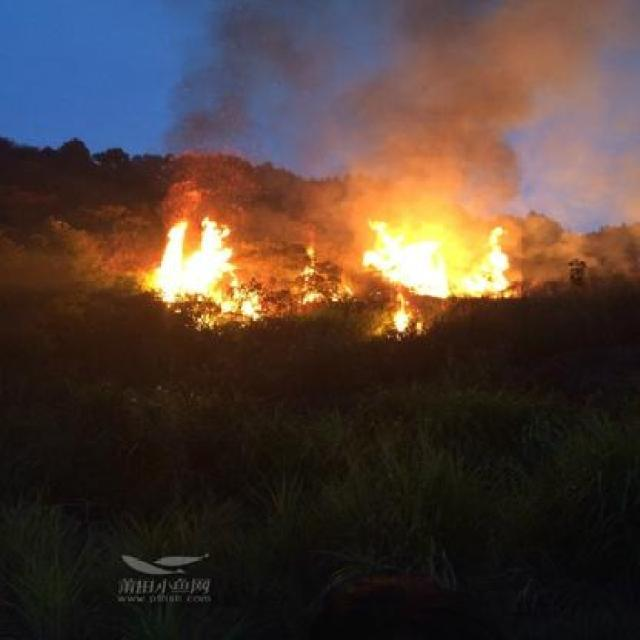Fire: (366, 206, 514, 332), (129, 214, 260, 328)
Smoke: (352, 10, 640, 202)
